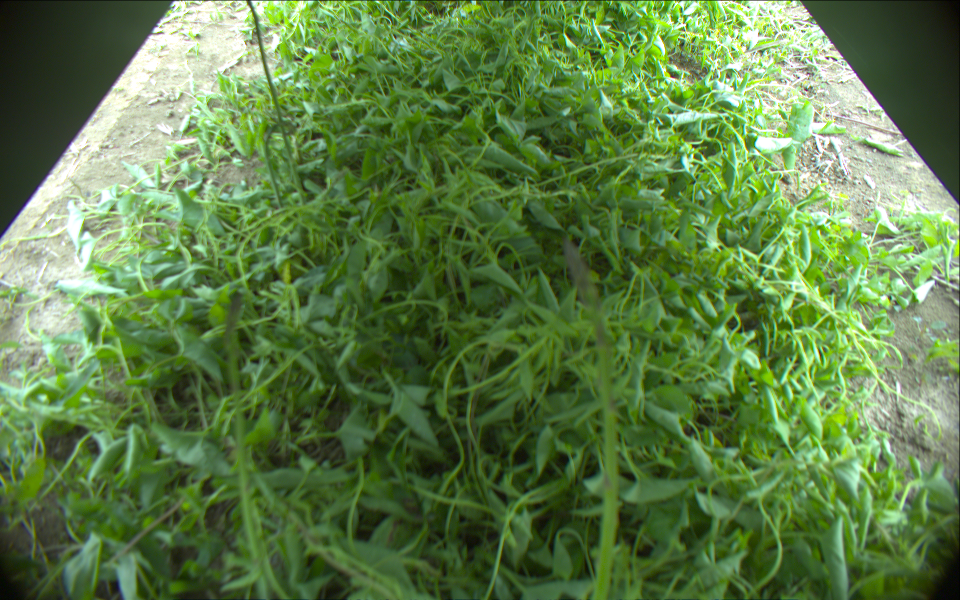aspa: (562, 239, 621, 600), (224, 292, 272, 600), (245, 1, 308, 208), (264, 122, 281, 208)
